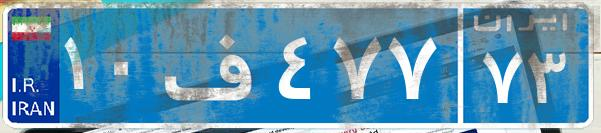0: (110, 28, 158, 105)
1: (57, 26, 110, 107)
3: (525, 38, 570, 115)
4: (273, 28, 330, 110)
7: (385, 28, 445, 110), (330, 28, 385, 110), (475, 38, 525, 113)
ف: (158, 15, 273, 115)
